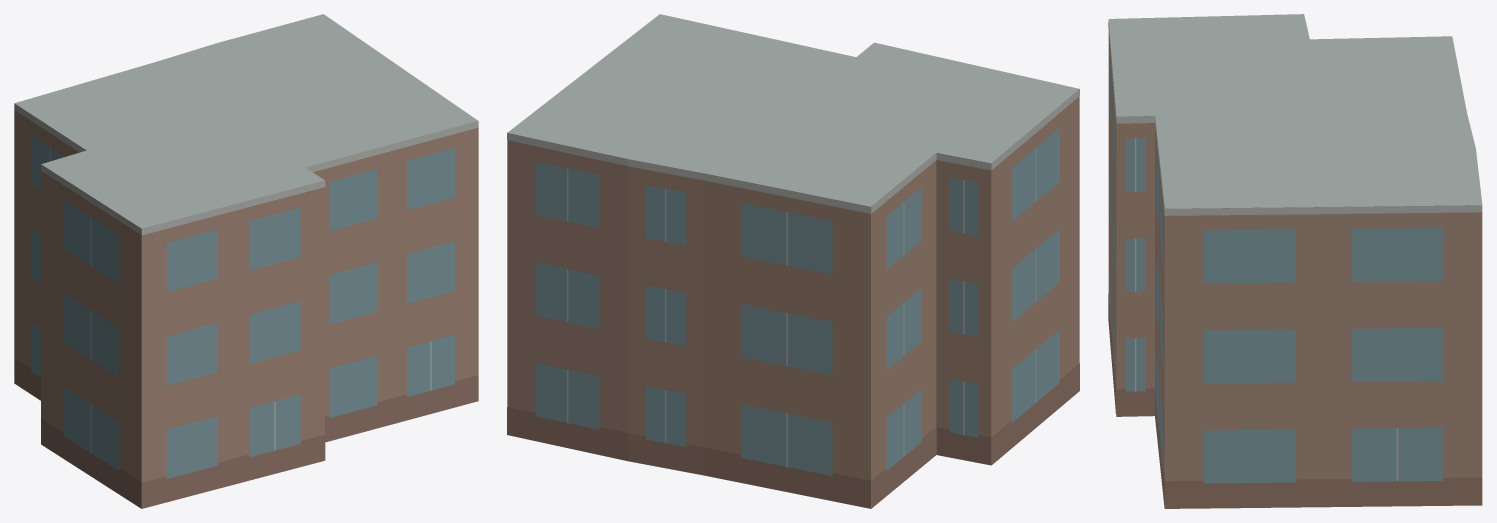
The model's file is survey-upis-32475166.glb.
3 renders of one model, left to right at view 1: azimuth 30°, elevation 25°; view 2: azimuth 150°, elevation 25°; view 3: azimuth 270°, elevation 25°, orthographic. The views are drawn at different scales.
Visible parts, largest first — view 1: survey-upis-32475166.tmp; view 2: survey-upis-32475166.tmp; view 3: survey-upis-32475166.tmp.
Part boxes in pixels (x1,y1,x2,y2): survey-upis-32475166.tmp: [14, 14, 478, 508]; survey-upis-32475166.tmp: [507, 14, 1079, 508]; survey-upis-32475166.tmp: [1108, 14, 1482, 508].
Size of the model in its own units: 14.34 by 10.3 by 11.64.
